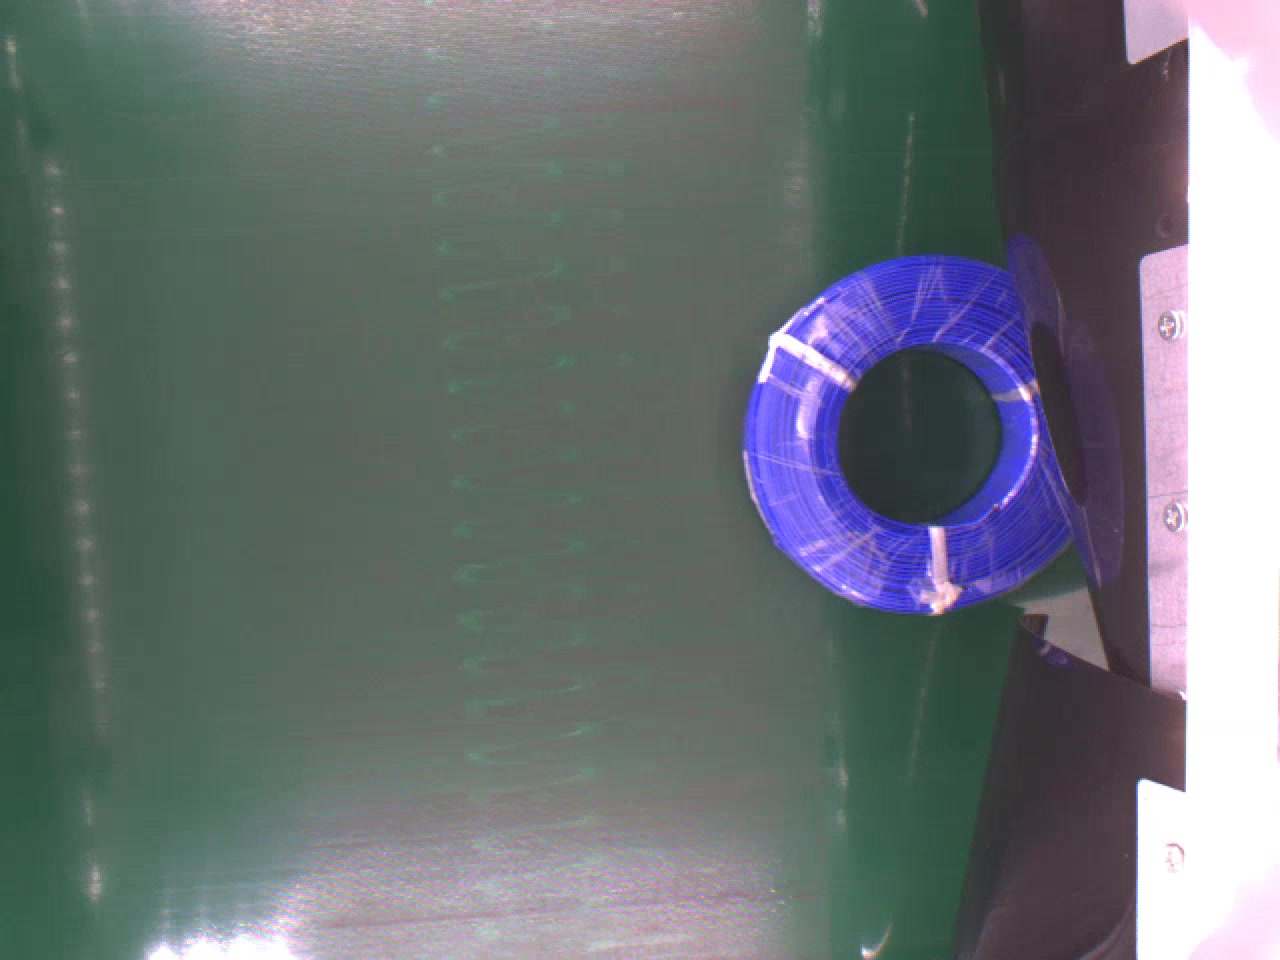blue: (739, 250, 1069, 608)
